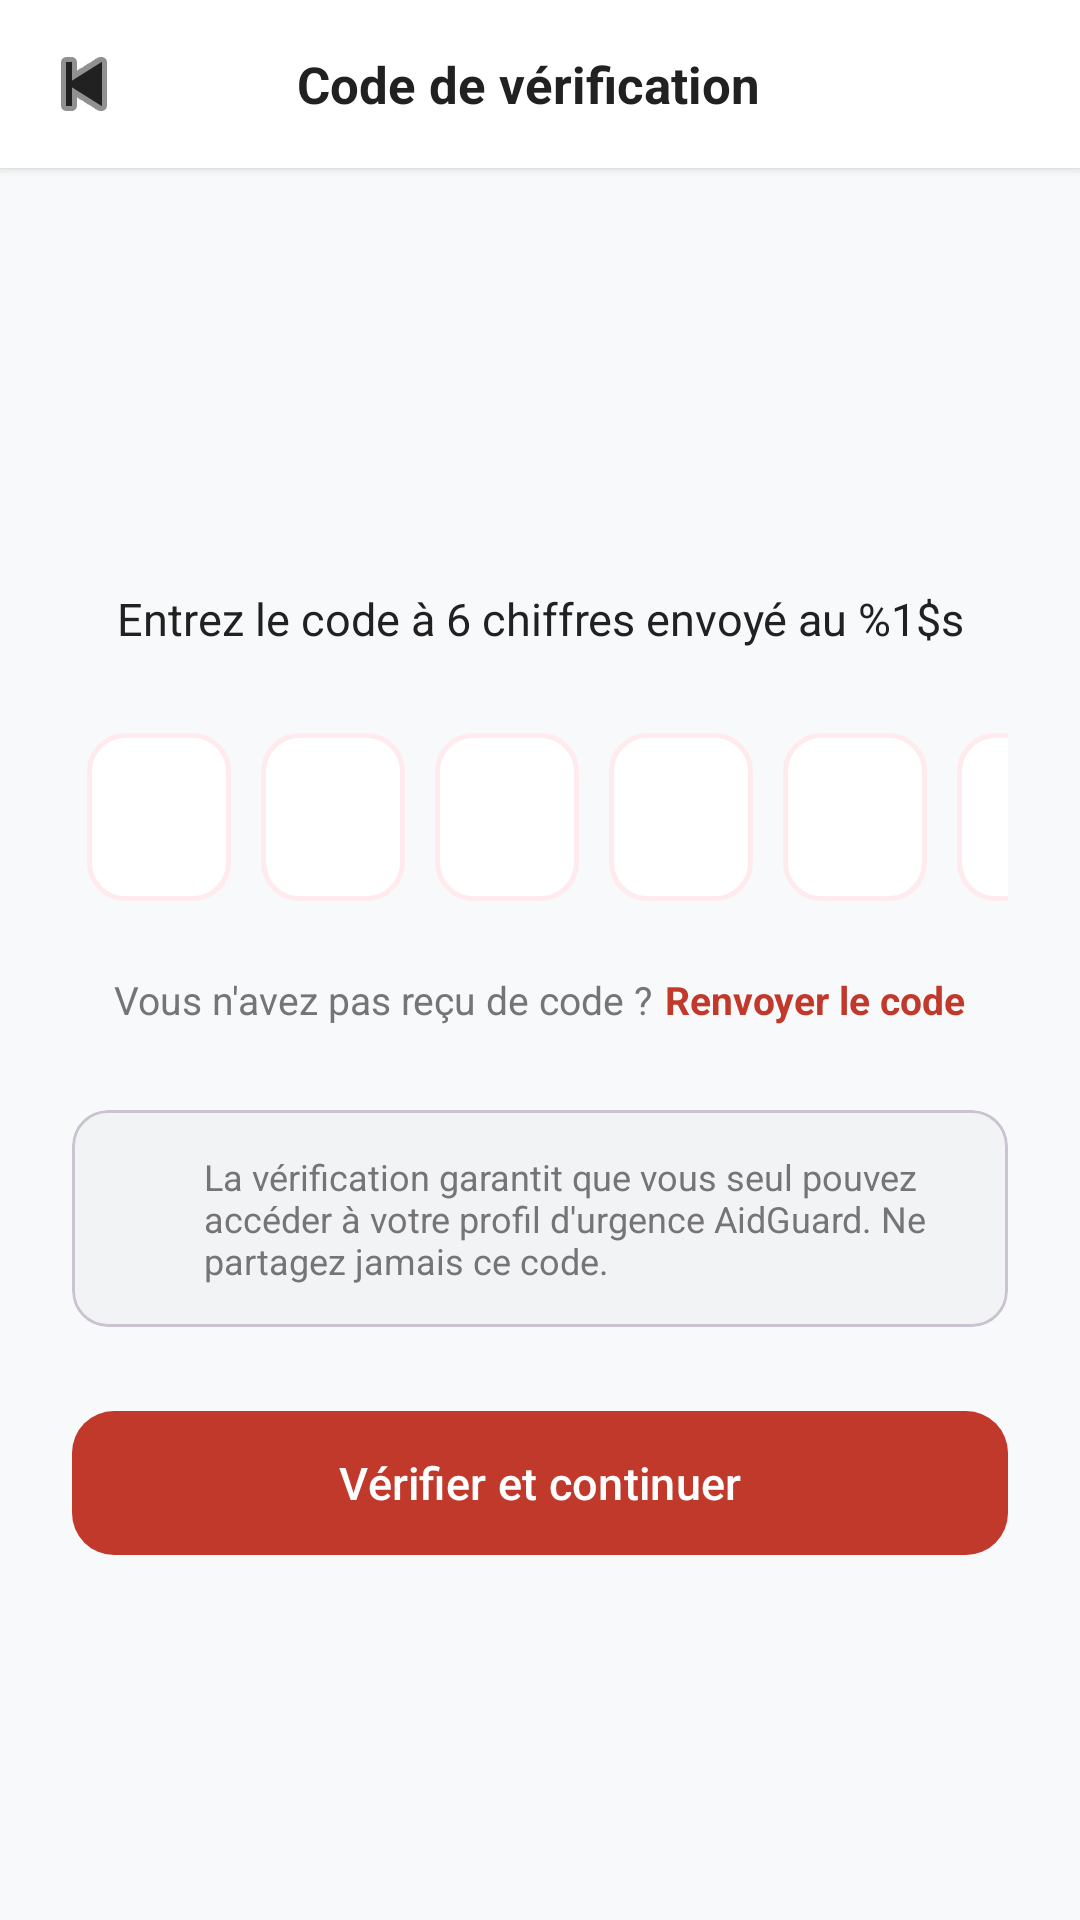

Named icons in this screenshot (1080×1920) and their centers, (x=x, y=y):
Retour: (x=84, y=84)
